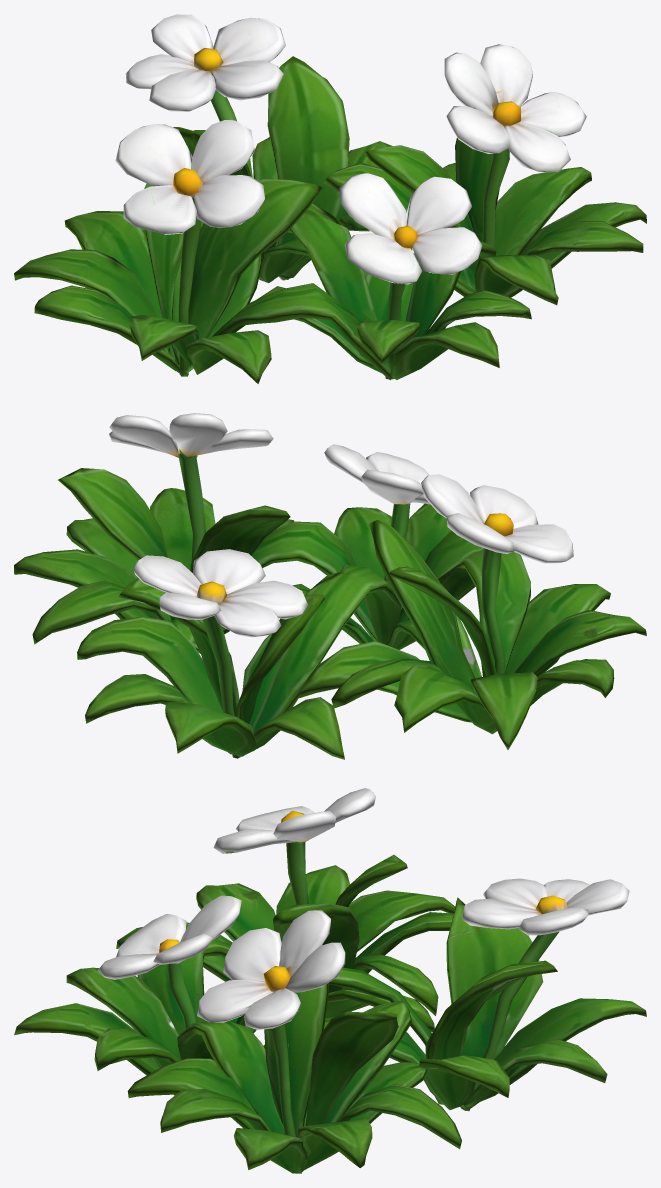
The model's file is s2_r3c1_white_daisy_patch.glb.
3 views of the same model, one above another, from view 1: azimuth 30°, elevation 25°; view 2: azimuth 150°, elevation 25°; view 3: azimuth 270°, elevation 25° (orthographic). The views are drawn at different scales.
Size of the model in its own units: 1 by 0.4267 by 0.9687.
Materials: 1 (1 with a texture image).
